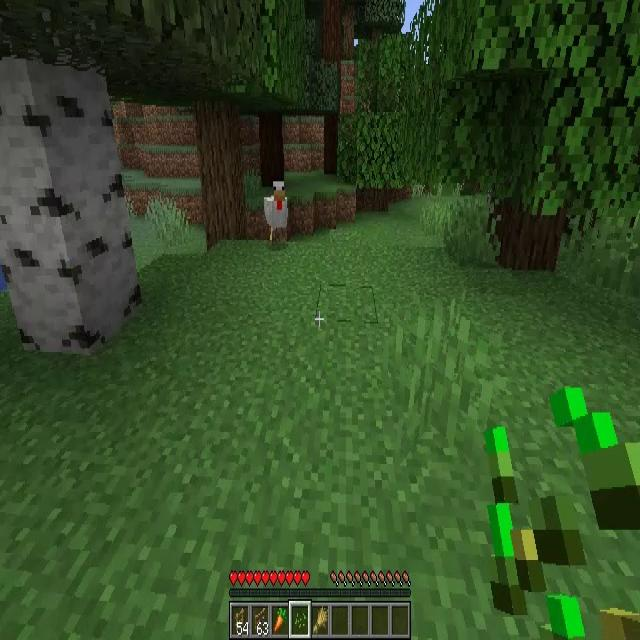duck: (262, 180, 290, 247)
